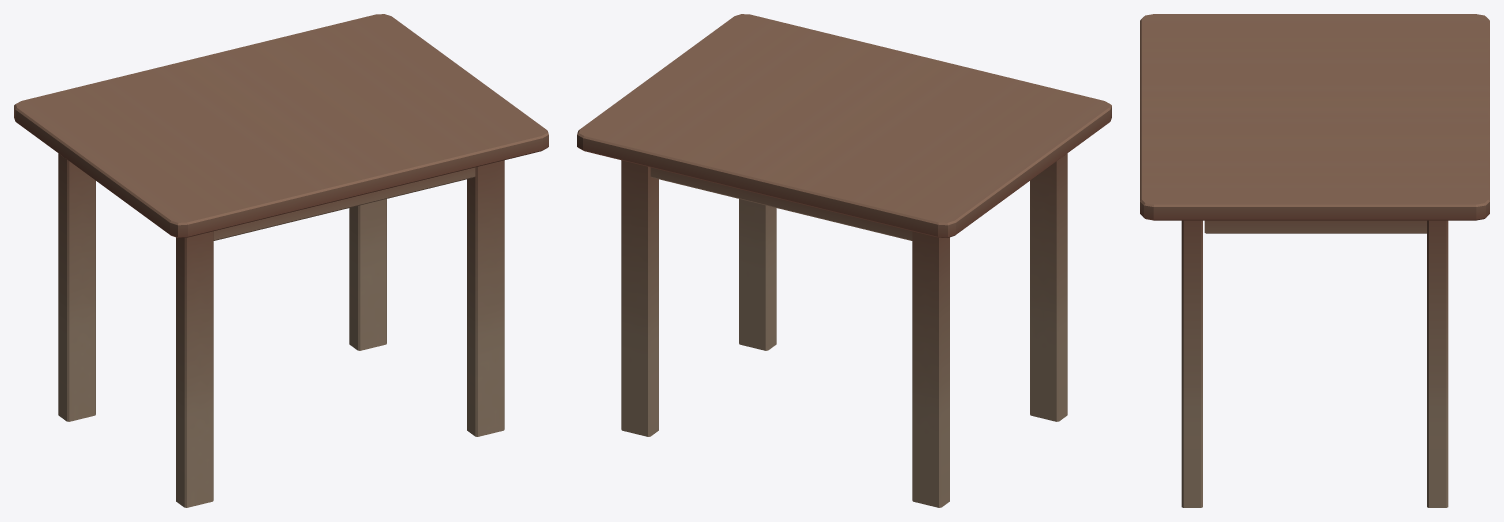
The model's file is obj_table_8d8bd0.glb.
The picture shows the model from 3 angles, left to right: view 1: azimuth 30°, elevation 25°; view 2: azimuth 150°, elevation 25°; view 3: azimuth 270°, elevation 25°; orthographic projection. The views are drawn at different scales.
Parts seen in each view (by area): view 1: obj_table_8d8bd0; view 2: obj_table_8d8bd0; view 3: obj_table_8d8bd0.
Boxes of the visible parts, box(x1,y1,x2,y2) form: obj_table_8d8bd0: box(14, 14, 548, 507); obj_table_8d8bd0: box(577, 14, 1111, 507); obj_table_8d8bd0: box(1140, 14, 1489, 507).
Size of the model in its own units: 0.585 by 0.45 by 0.45.
Materials: 1 (1 with a texture image).
